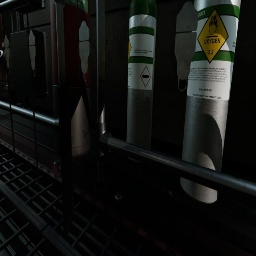0: (180, 0, 241, 204), (126, 0, 157, 163)
NitrogenTank ,: (50, 0, 91, 159), (49, 0, 51, 41)
